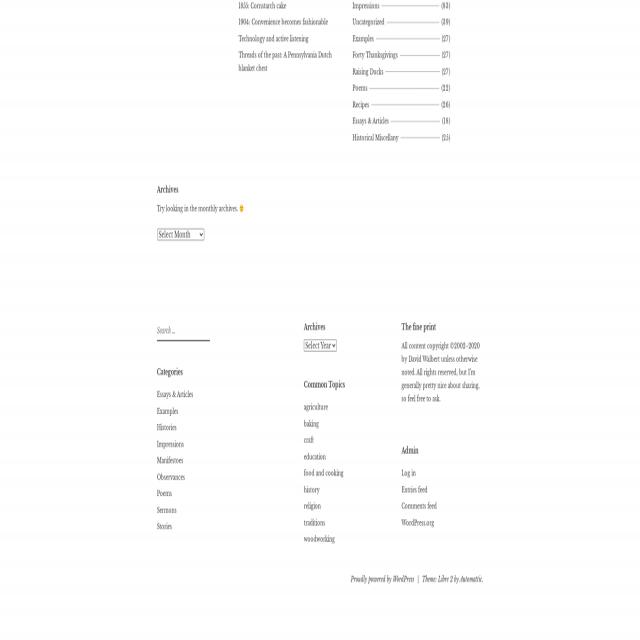button: (240, 206, 243, 213)
field: (157, 324, 210, 342), (158, 228, 205, 239), (304, 341, 337, 352)
